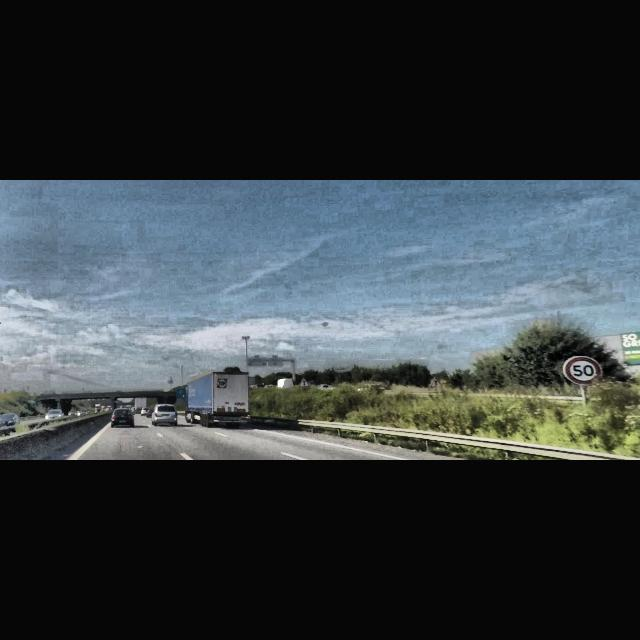speed_50: (564, 358, 602, 384)
